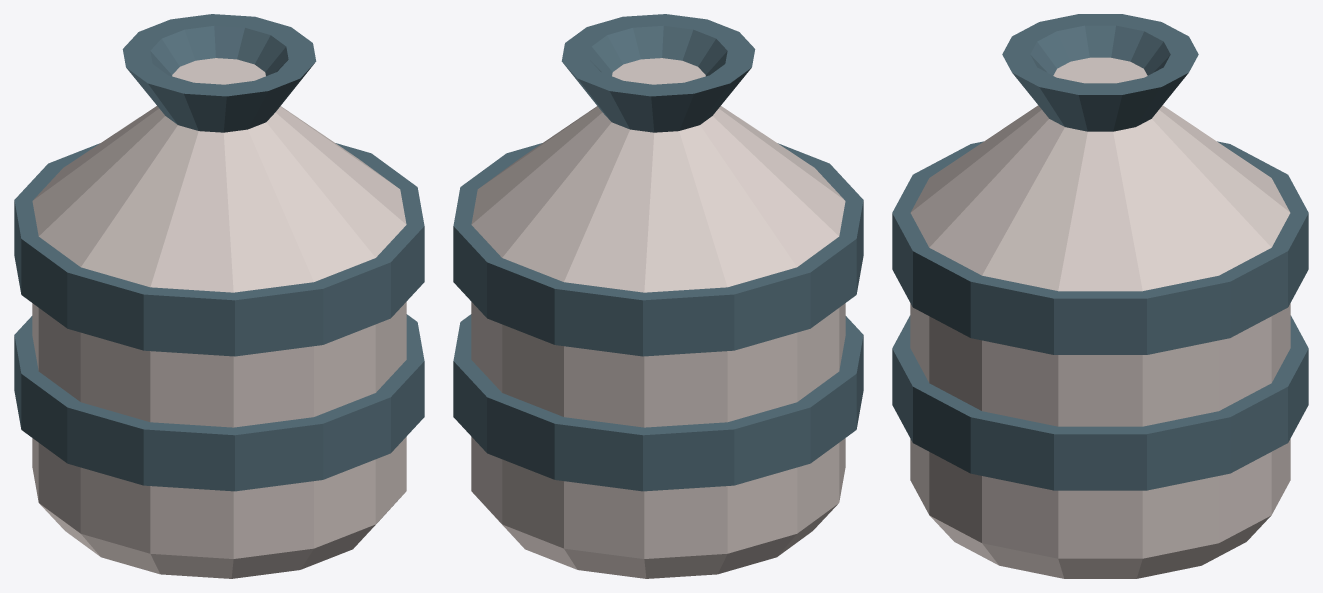
Rendered from Bottle.fbx.
The picture shows the model from 3 angles, left to right: view 1: azimuth 30°, elevation 25°; view 2: azimuth 150°, elevation 25°; view 3: azimuth 270°, elevation 25°; orthographic projection.
Parts seen in each view (by area): view 1: Bottle; view 2: Bottle; view 3: Bottle.
Boxes of the visible parts, x1=… form: Bottle: x1=14, y1=14, x2=424, y2=578; Bottle: x1=453, y1=14, x2=863, y2=578; Bottle: x1=892, y1=14, x2=1308, y2=578.
Size of the model in its own units: 104 by 129 by 107.
